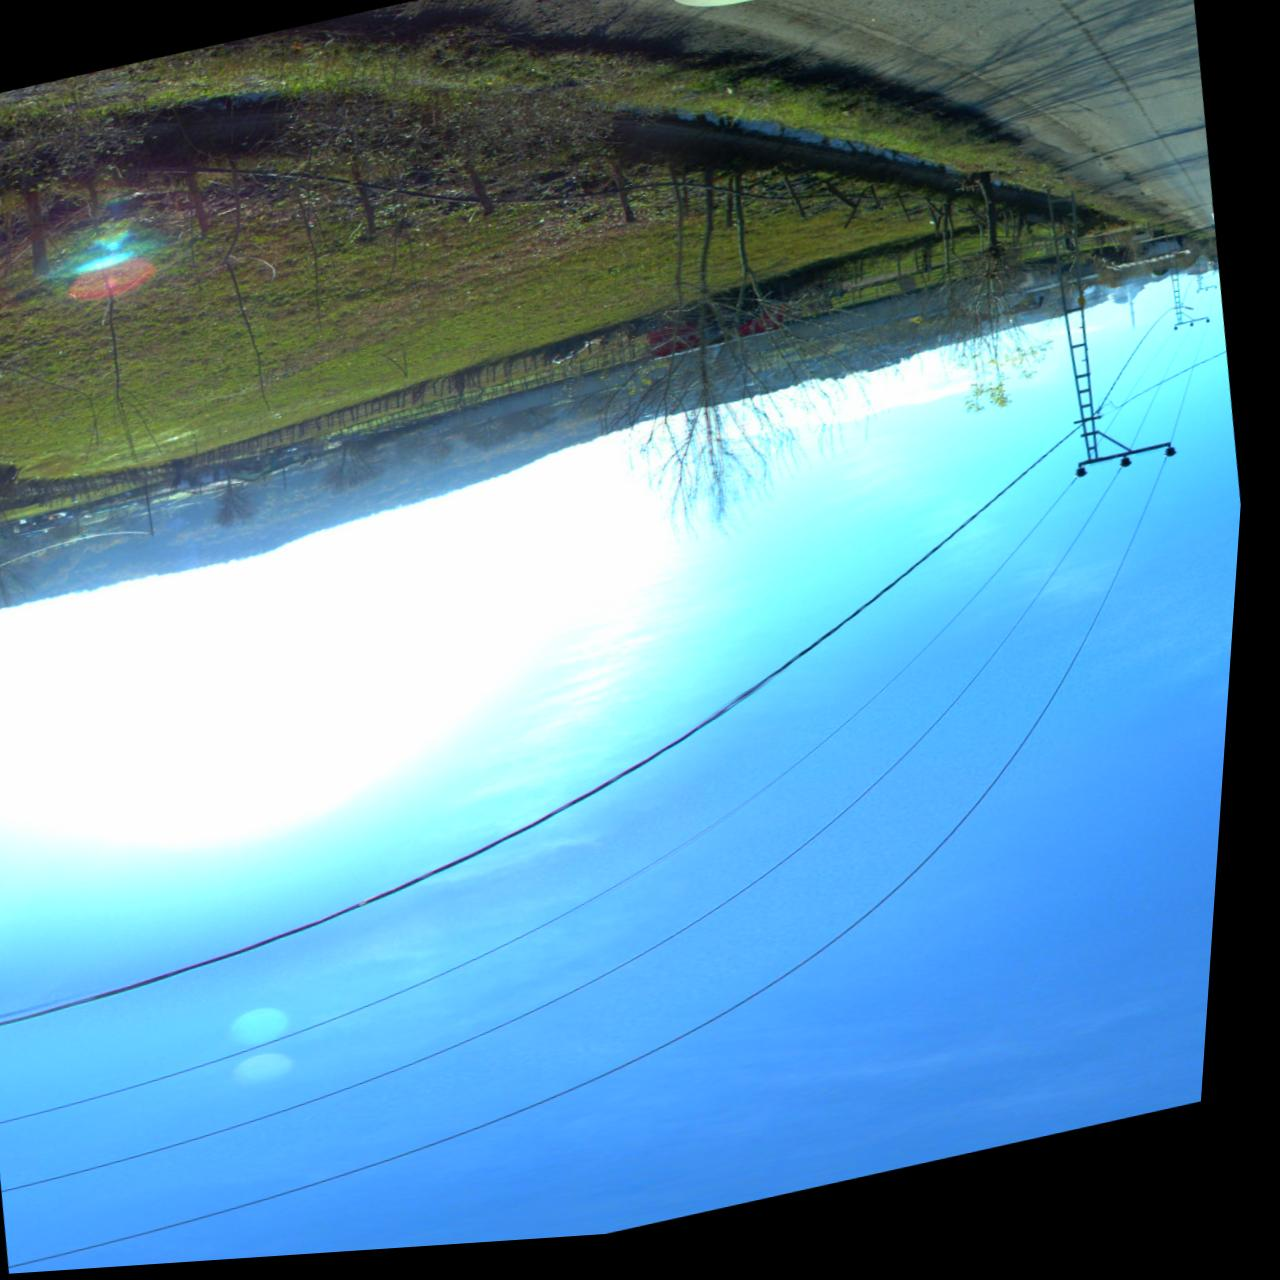Utility Pole Information Plate: (1082, 312, 1089, 320)
